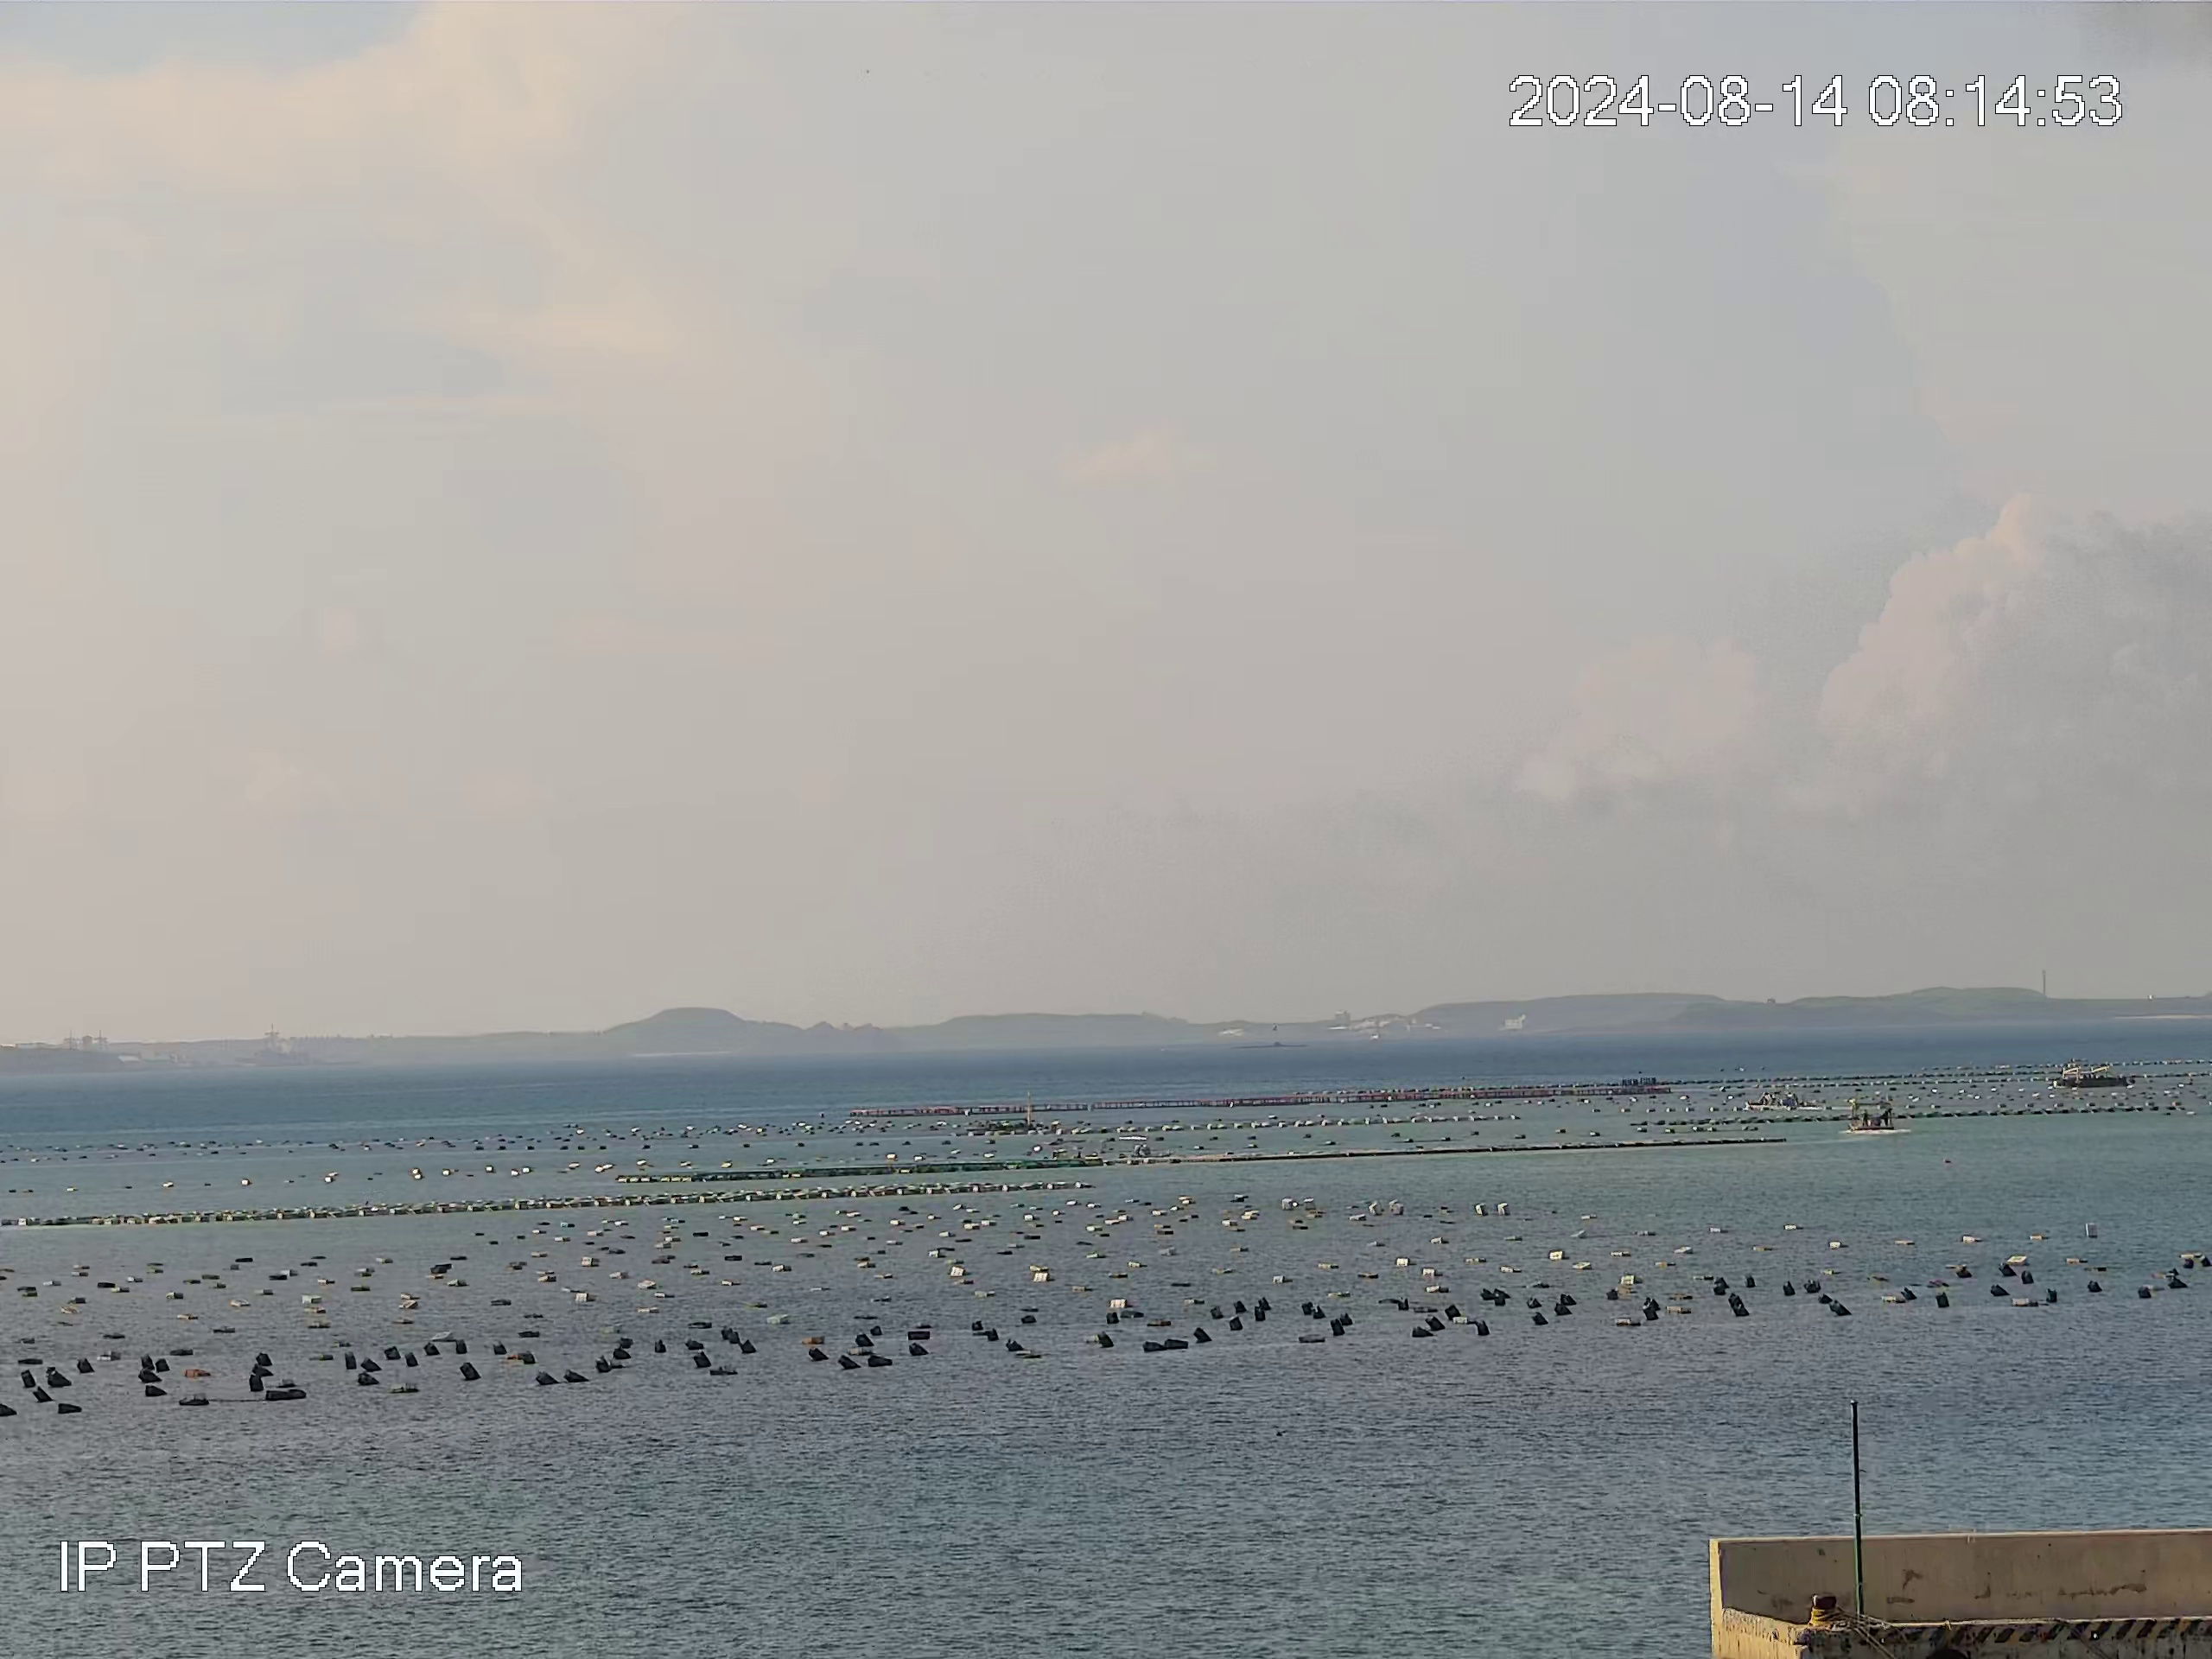boat: (1848, 1096, 1904, 1131), (1747, 1082, 1815, 1110), (2057, 1066, 2134, 1091)
